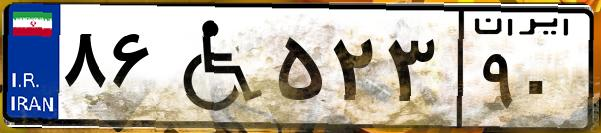0: (525, 38, 570, 115)
2: (330, 28, 385, 110)
3: (385, 28, 445, 110)
5: (270, 28, 330, 110)
6: (110, 28, 158, 98)
8: (57, 26, 110, 100)
9: (475, 38, 525, 113)
ژ (معلولین و جانبازان): (158, 12, 270, 120)
